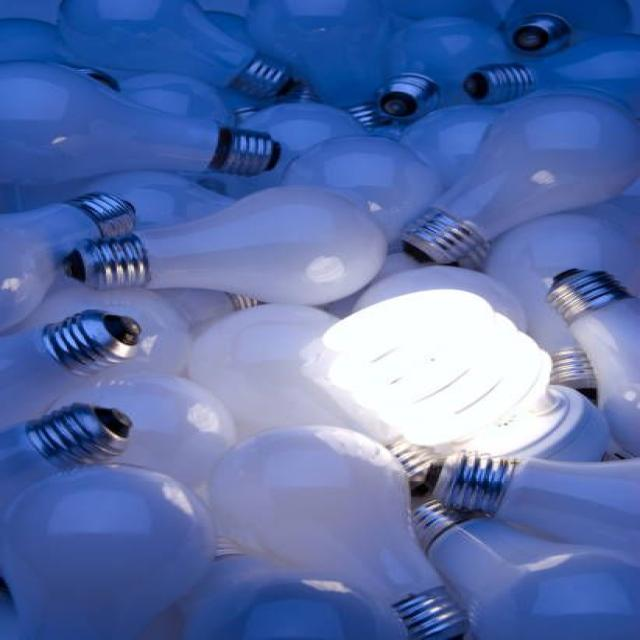electronic: (0, 0, 637, 639), (206, 422, 470, 638), (313, 286, 554, 447)
